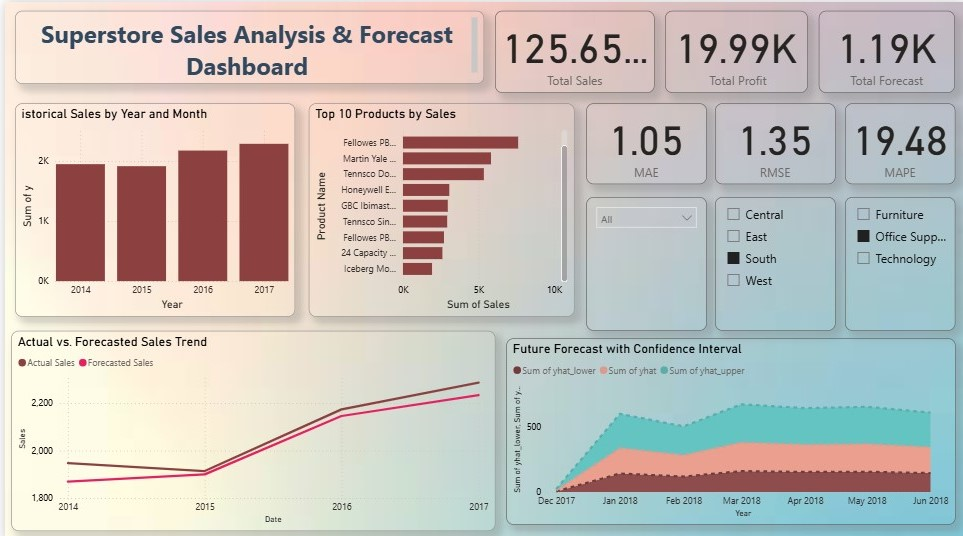

What the dashboard file says about the page in this screenshot:
{"tool":"powerbi","page":{"name":"Page 1","canvas":[1280,720],"ordinal":0},"visuals":[{"type":"card","fields":{"Values":["Sum(forecast_metrics.Value)"]},"box":[774.5,135.1,160.6,108.1],"z":0},{"type":"card","fields":{"Values":["Sum(forecast_metrics.Value)"]},"box":[1119.7,135.1,147.1,108.1],"z":1000},{"type":"card","fields":{"Values":["Sum(forecast_metrics.Value)"]},"box":[947.1,135.1,160.6,108.1],"z":2000},{"type":"lineChart","title":"Actual vs. Forecasted Sales Trend","fields":{"Category":["historical_and_forecast_sales.ds.Variation.Date Hierarchy.Year","historical_and_forecast_sales.ds.Variation.Date Hierarchy.Quarter","historical_and_forecast_sales.ds.Variation.Date Hierarchy.Month","historical_and_forecast_sales.ds.Variation.Date Hierarchy.Day"],"Y":["Sum(historical_and_forecast_sales.y)","Sum(historical_and_forecast_sales.yhat)"]},"box":[8.3,448.3,645,256.7],"z":3000},{"type":"clusteredColumnChart","title":"istorical Sales by Year and Month","fields":{"Y":["Sum(historical_daily_sales.y)"],"Category":["historical_daily_sales.ds.Variation.Date Hierarchy.Year","historical_daily_sales.ds.Variation.Date Hierarchy.Quarter","historical_daily_sales.ds.Variation.Date Hierarchy.Month","historical_daily_sales.ds.Variation.Date Hierarchy.Day"]},"box":[13.3,135,373.3,303.3],"z":4000},{"type":"stackedAreaChart","title":"Future Forecast with Confidence Interval","fields":{"Category":["future_forecasted_sales.ds.Variation.Date Hierarchy.Year","future_forecasted_sales.ds.Variation.Date Hierarchy.Quarter","future_forecasted_sales.ds.Variation.Date Hierarchy.Month","future_forecasted_sales.ds.Variation.Date Hierarchy.Day"],"Y":["Sum(future_forecasted_sales.yhat_lower)","Sum(future_forecasted_sales.yhat)","Sum(future_forecasted_sales.yhat_upper)"]},"box":[667.9,448.8,598.9,249.2],"z":5000},{"type":"clusteredBarChart","title":"Top 10 Products by Sales","fields":{"Category":["Sample - Superstore.Product Name"],"Y":["Sum(Sample - Superstore.Sales)"]},"box":[405,135,355,303.3],"z":6000},{"type":"slicer","title":"Category","fields":{"Values":["Sample - Superstore.Category"]},"box":[1119.7,259.7,147.1,178.6],"z":7000},{"type":"slicer","fields":{"Values":["Sample - Superstore.Region"]},"box":[947.1,259.7,160.6,178.6],"z":8000},{"type":"slicer","title":"Select a Time Period","fields":{"Values":["Date.Year","Date.Month"]},"box":[774.5,259.7,160.6,178.6],"z":9000},{"type":"card","fields":{"Values":["Sum(Sample - Superstore.Sales)"]},"box":[652.9,12,213.1,109.6],"z":10000},{"type":"card","fields":{"Values":["Sum(Sample - Superstore.Profit)"]},"box":[879.6,12,190.6,109.6],"z":11000},{"type":"card","fields":{"Values":["Sum(future_forecasted_sales.yhat)"]},"box":[1085.2,12,181.6,109.6],"z":12000},{"type":"textbox","box":[13.3,11.7,626.7,110],"z":13000}]}

Visuals, with their boxes in screenshot pixels (x1, y1, x2, y2), scaled from the page's 1280x720 canvas onto the 963x536 screenshot:
card - Sum(forecast_metrics.Value): (583, 101, 704, 181)
card - Sum(forecast_metrics.Value): (842, 101, 953, 181)
card - Sum(forecast_metrics.Value): (713, 101, 833, 181)
"Actual vs. Forecasted Sales Trend" lineChart: (6, 334, 492, 525)
"istorical Sales by Year and Month" clusteredColumnChart: (10, 100, 291, 326)
"Future Forecast with Confidence Interval" stackedAreaChart: (502, 334, 953, 520)
"Top 10 Products by Sales" clusteredBarChart: (305, 100, 572, 326)
"Category" slicer: (842, 193, 953, 326)
slicer - Sample - Superstore.Region: (713, 193, 833, 326)
"Select a Time Period" slicer: (583, 193, 704, 326)
card - Sum(Sample - Superstore.Sales): (491, 9, 652, 91)
card - Sum(Sample - Superstore.Profit): (662, 9, 805, 91)
card - Sum(future_forecasted_sales.yhat): (816, 9, 953, 91)
textbox: (10, 9, 482, 91)
